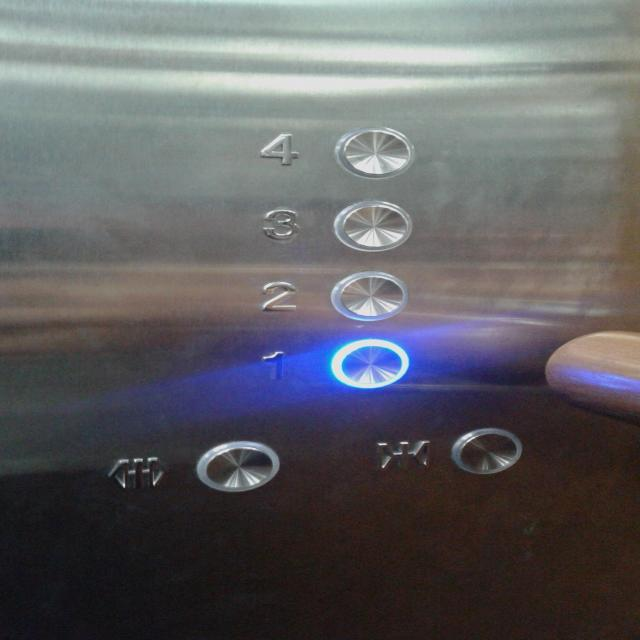1: (245, 335, 418, 394)
2: (244, 267, 418, 326)
3: (247, 196, 421, 254)
4: (247, 120, 422, 182)
close: (363, 422, 529, 483)
open: (102, 438, 288, 500)
